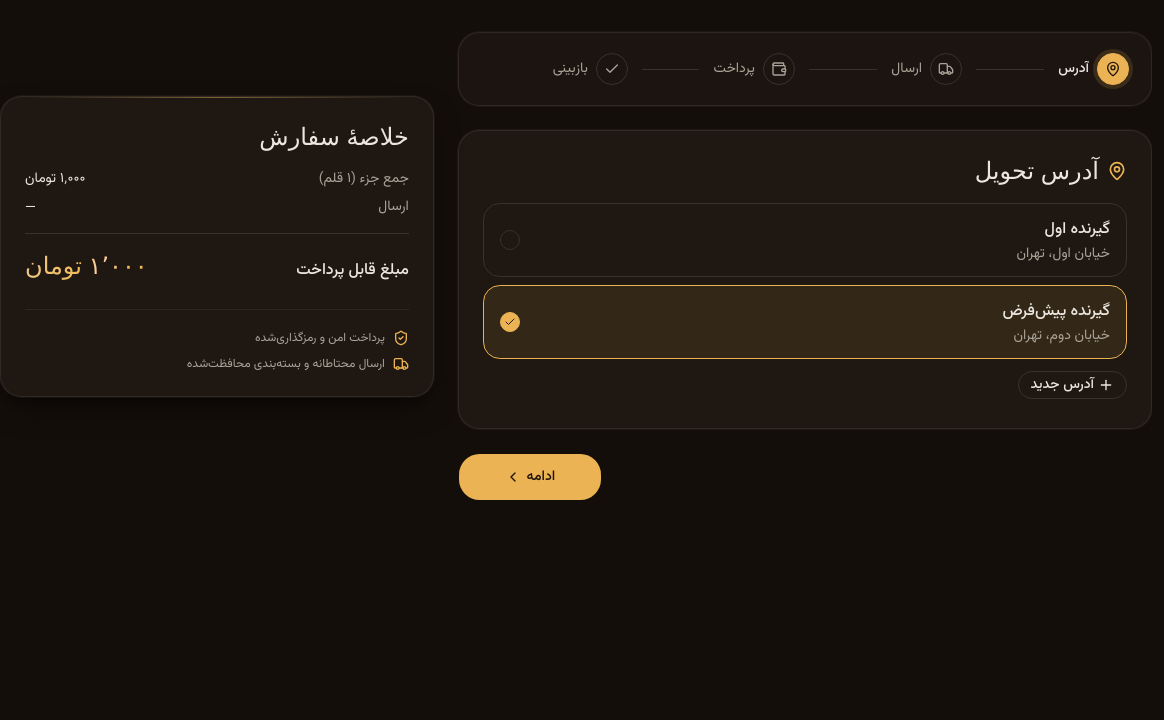
Test: checkout state logic › exposes address and shipping choices as named radio groups
Expected: the element named "انتخاب آدرس تحویل" is shown, [483,203,1127,359]
What coordinates should you click on to do the following:
click the button "ادامه"
I would click on:
 (530, 477)
Its box is [458,453,602,501].
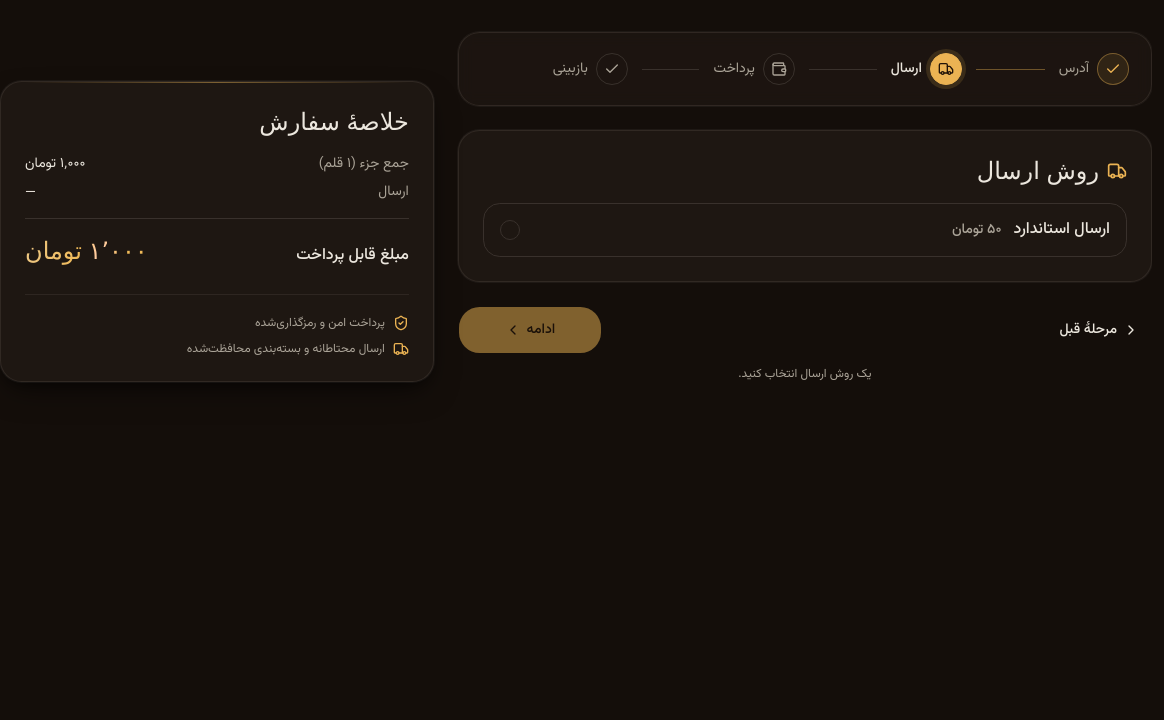
Expected: the radio button labelled "ارسال استاندارد ۵۰ تومان" is not checked
What coordinates should you click on to do the following:
click the radio button labelled "ارسال استاندارد ۵۰ تومان"
I would click on:
 (1062, 230)
Its box is [483,203,1127,257].
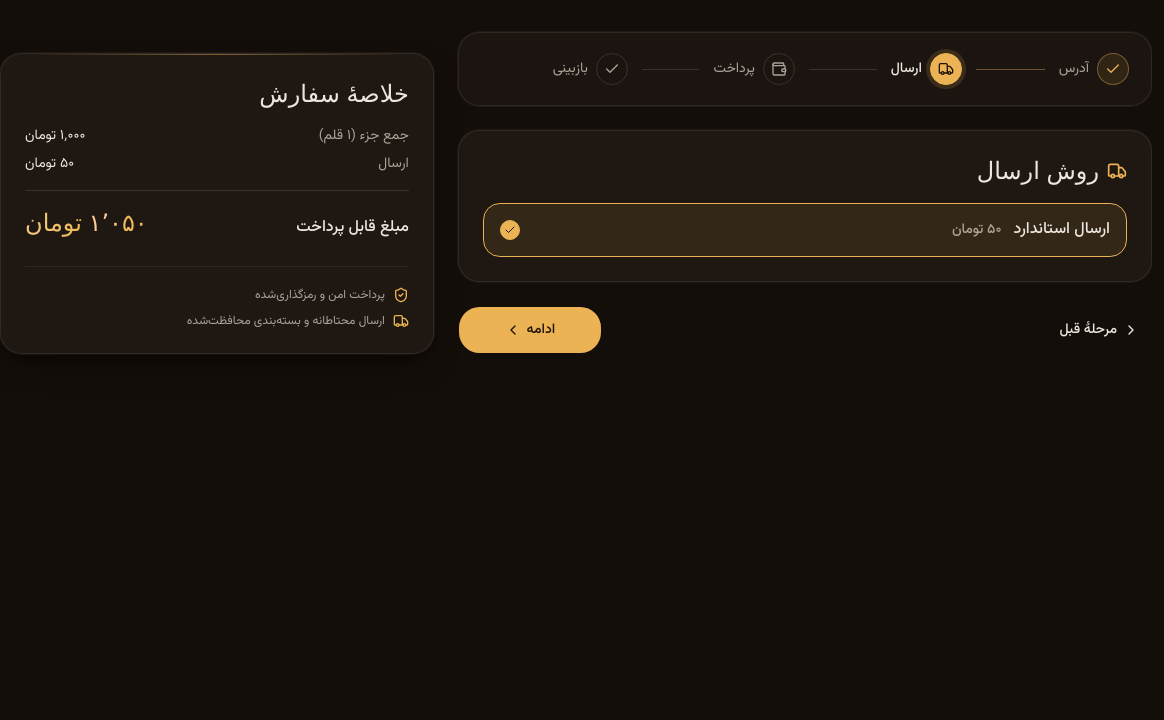
What coordinates should you click on to do the following:
click the button "ادامه"
I would click on:
 (530, 330)
Its box is [458,306,602,354].
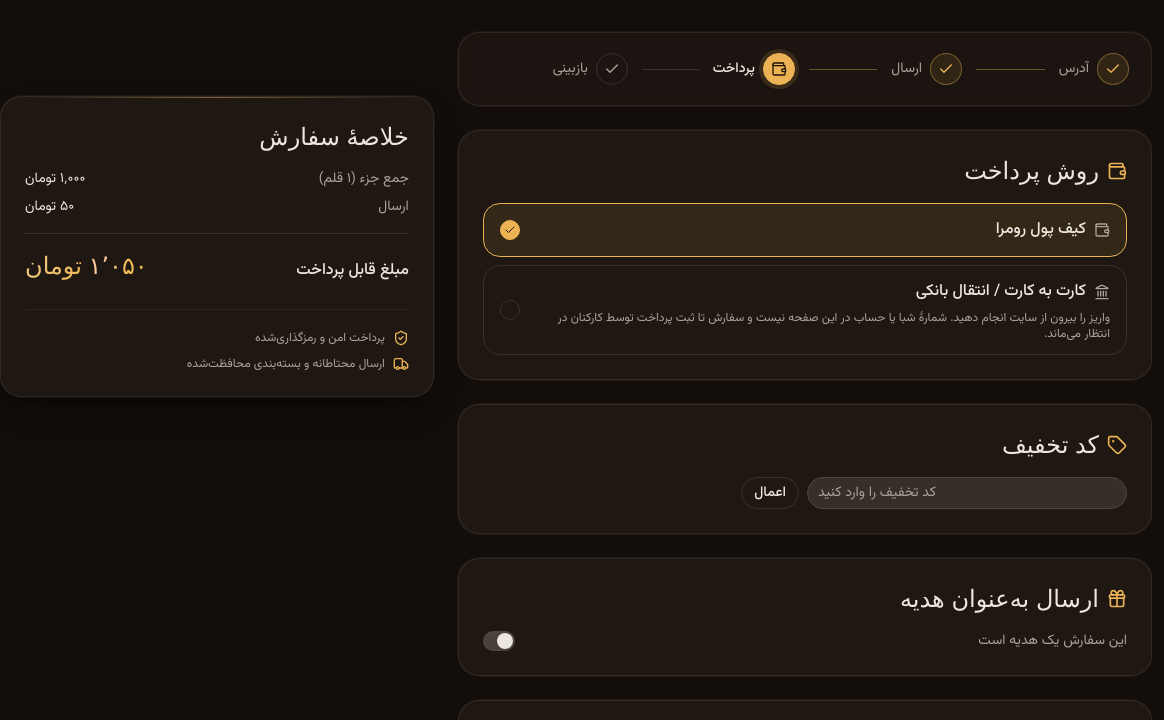
Expected: the element named "روش پرداخت" is shown, [483,203,1127,355]
Expected: the radio button labelled "کیف پول رومرا" is checked, [483,203,1127,257]
